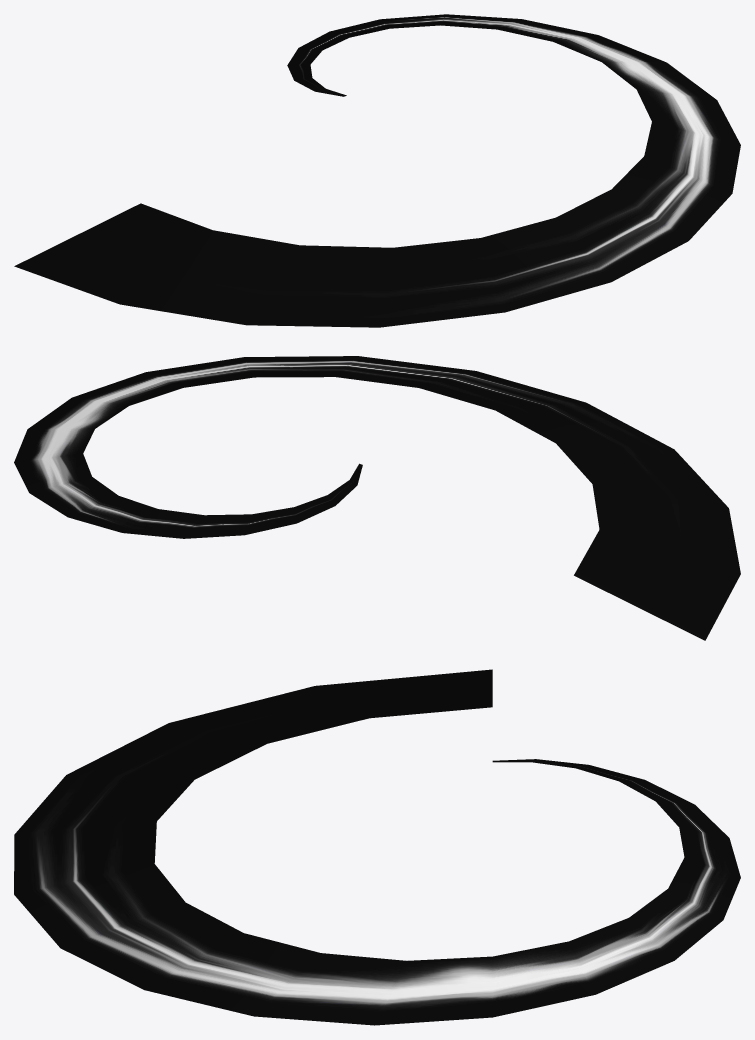
3 renders of one model, top to bottom at view 1: azimuth 30°, elevation 25°; view 2: azimuth 150°, elevation 25°; view 3: azimuth 270°, elevation 25°, orthographic. The views are drawn at different scales.
Bounding box in the file's own units: 2.2 × 0.2863 × 1.66.
Materials: 1 (1 with a texture image).
